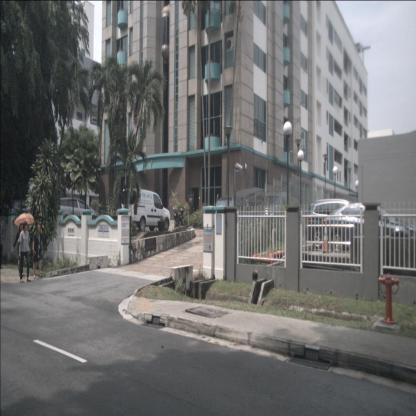human-pedestrian-adult: (12, 212, 35, 276), (18, 222, 31, 284), (31, 223, 44, 279), (0, 216, 4, 270)
movable_object-trafficcone: (320, 224, 332, 253)
vehicle-car: (319, 201, 416, 259), (306, 199, 369, 250), (210, 188, 266, 245), (120, 188, 170, 233), (256, 192, 297, 230), (50, 197, 100, 227)
vehicle-motorcycle: (172, 207, 186, 231)
